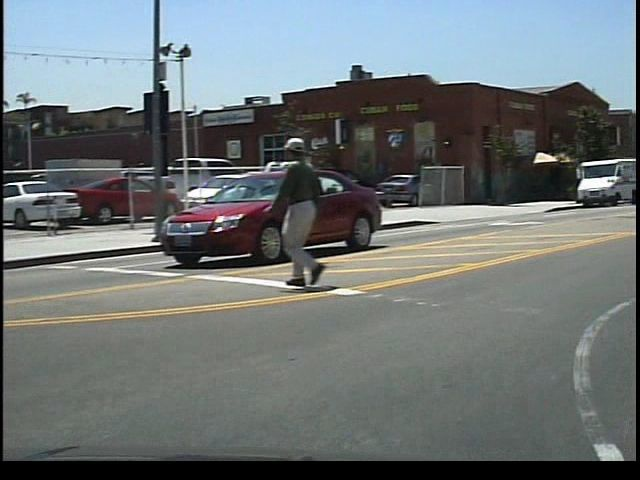person: (276, 133, 353, 298)
